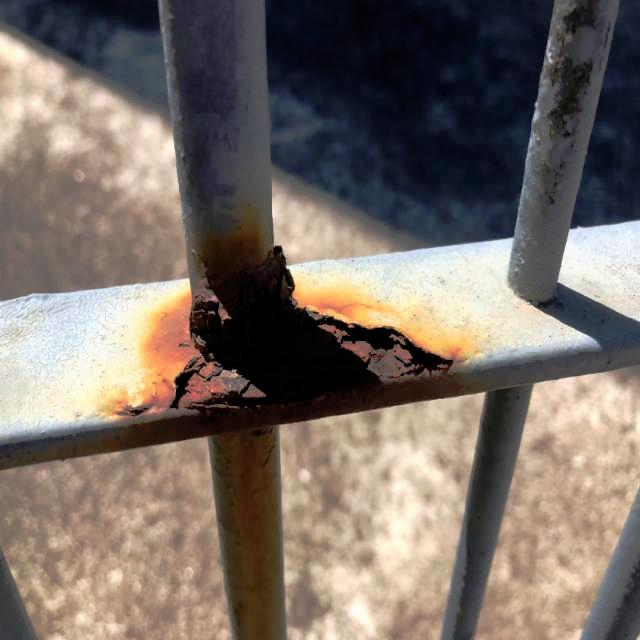Corrosion: (100, 212, 459, 452)
